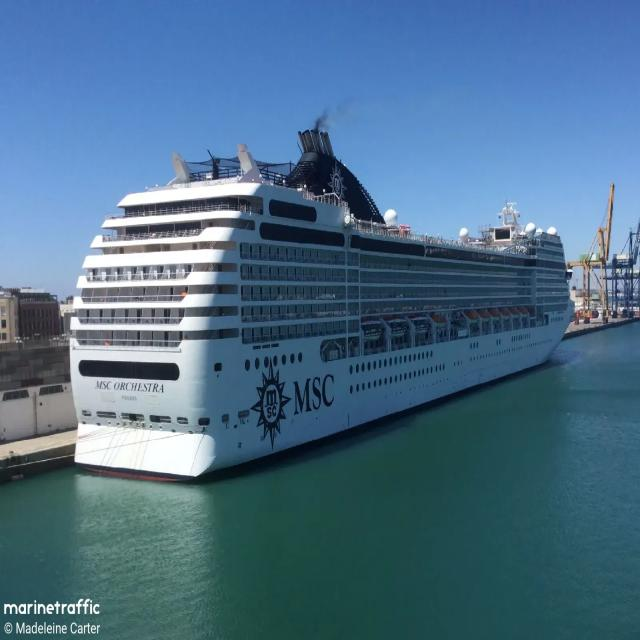Cruise: (70, 121, 573, 481)
